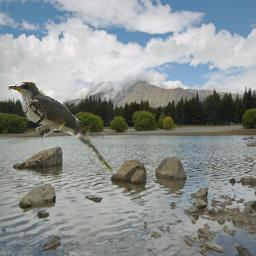Cuckoo: (8, 82, 113, 172)
